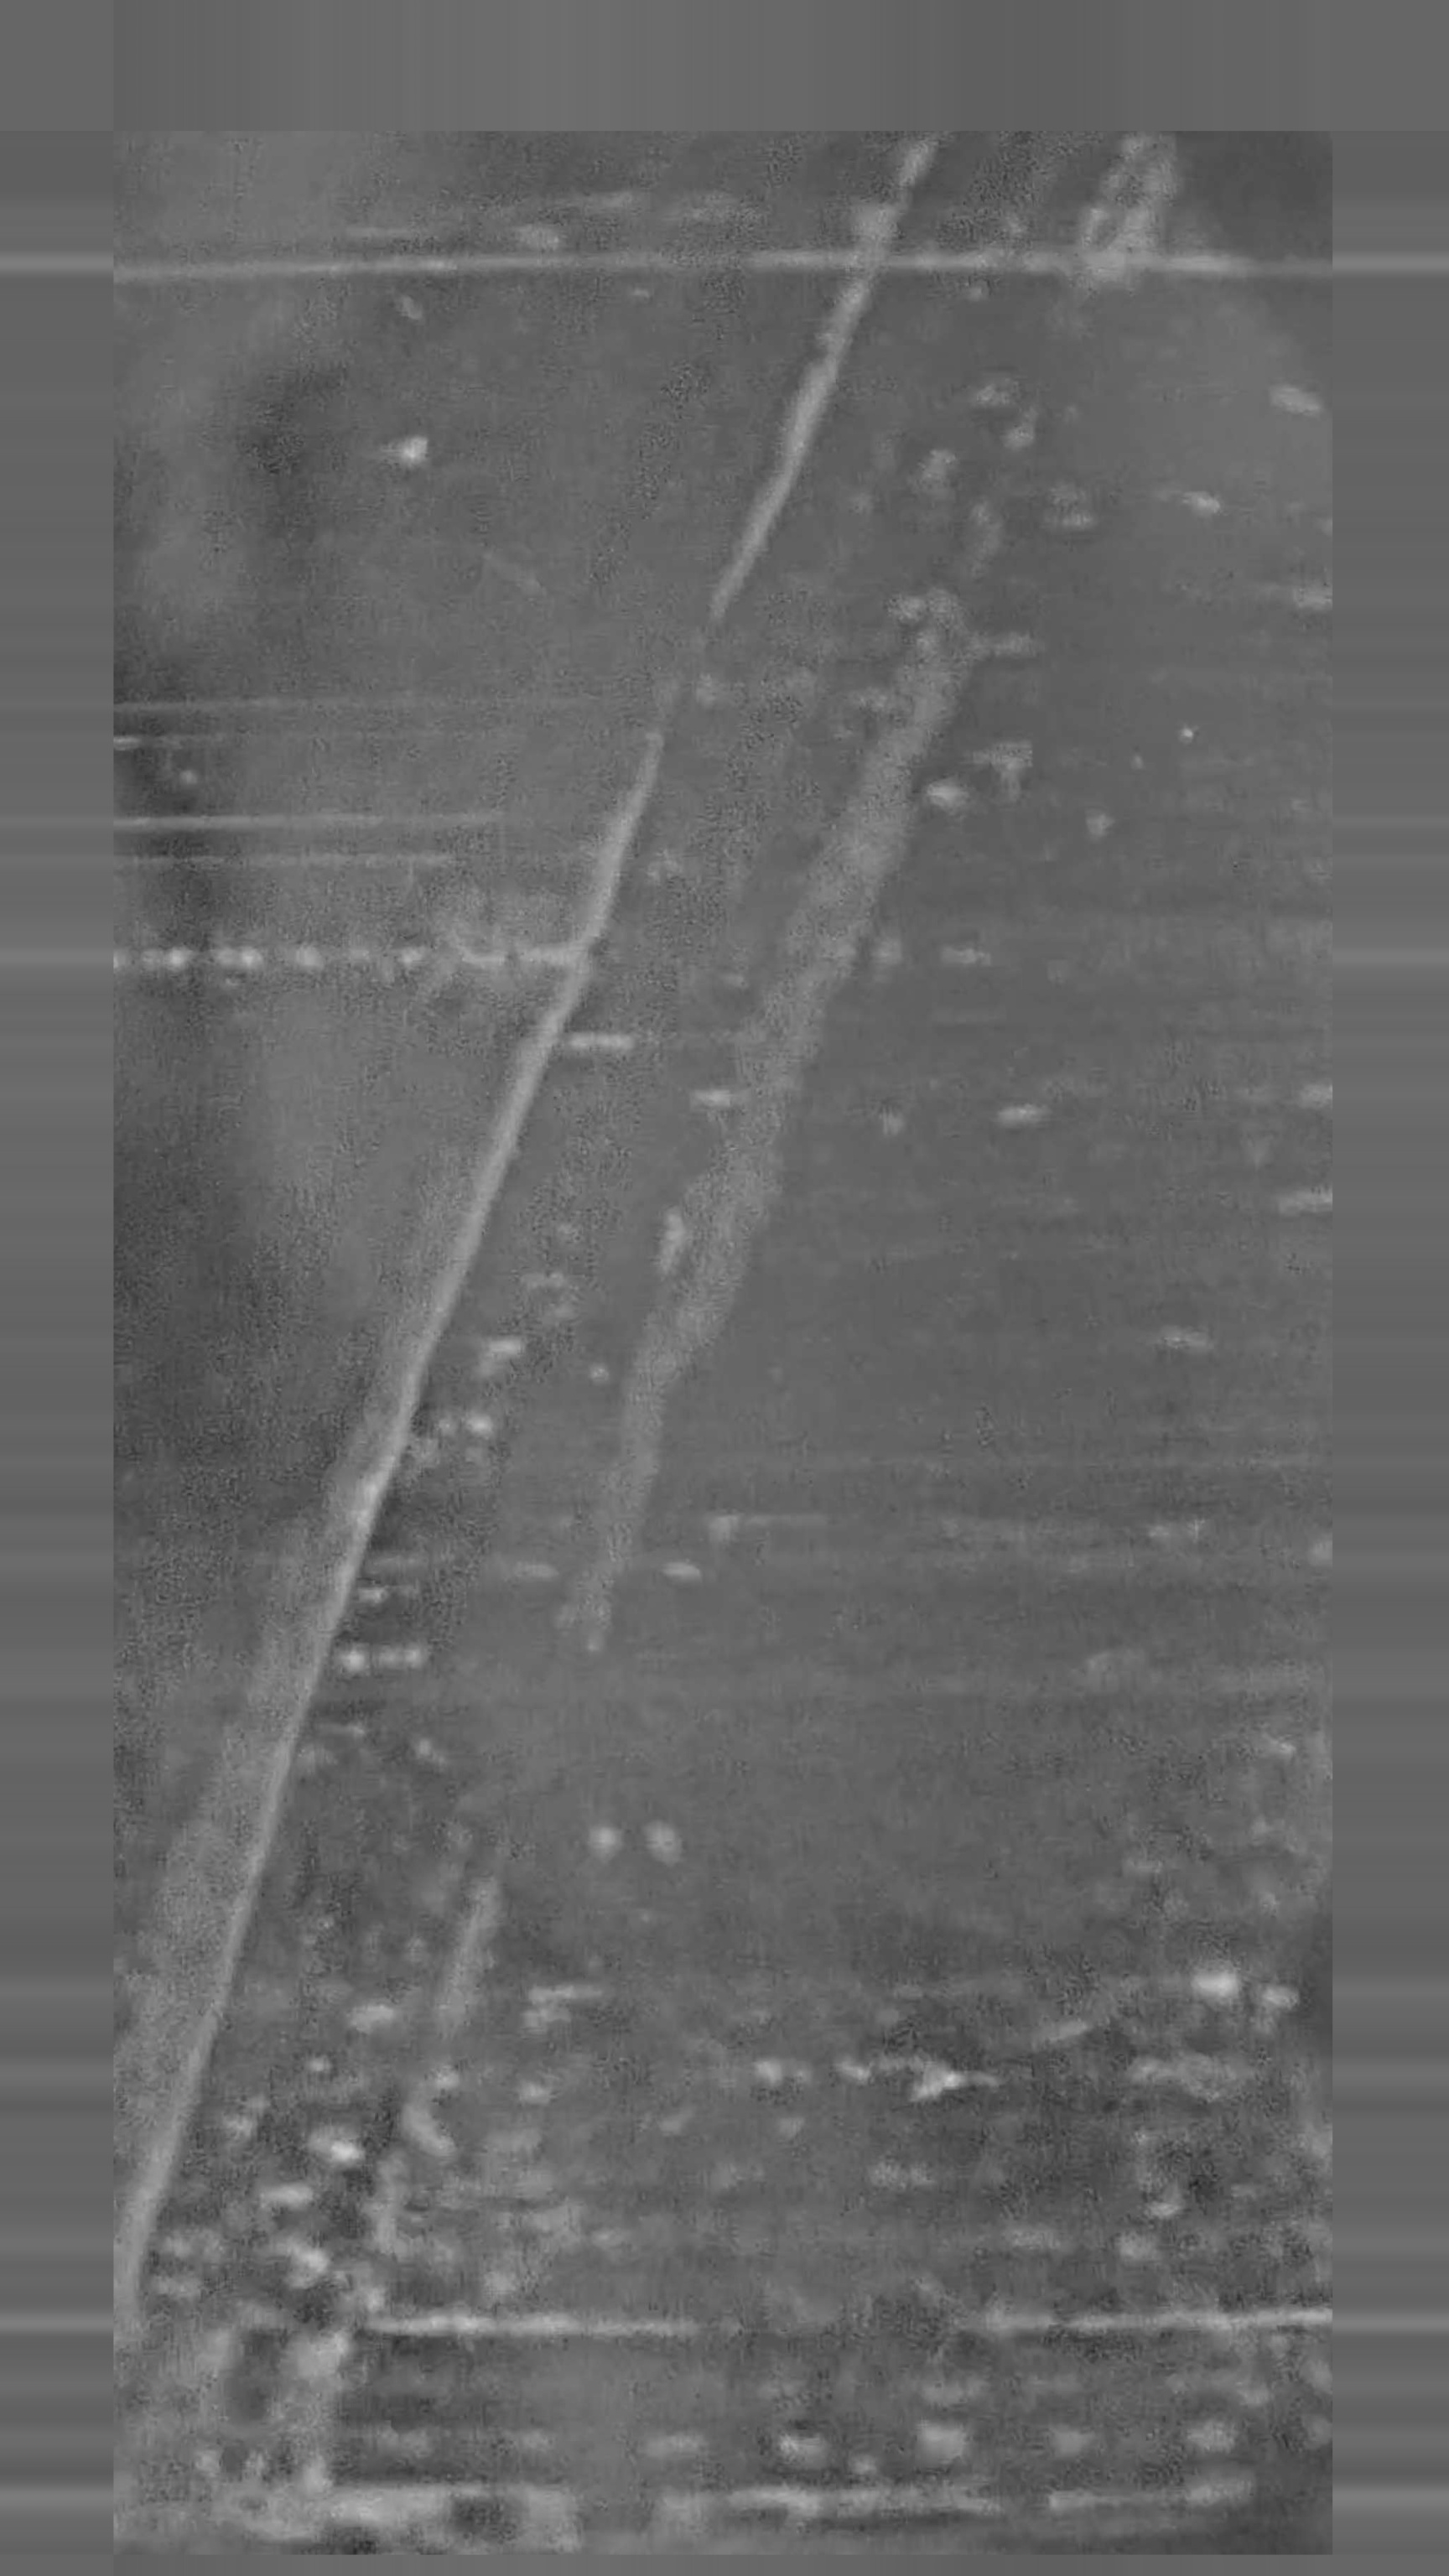splice_vulcanized: (113, 129, 1173, 2553)
